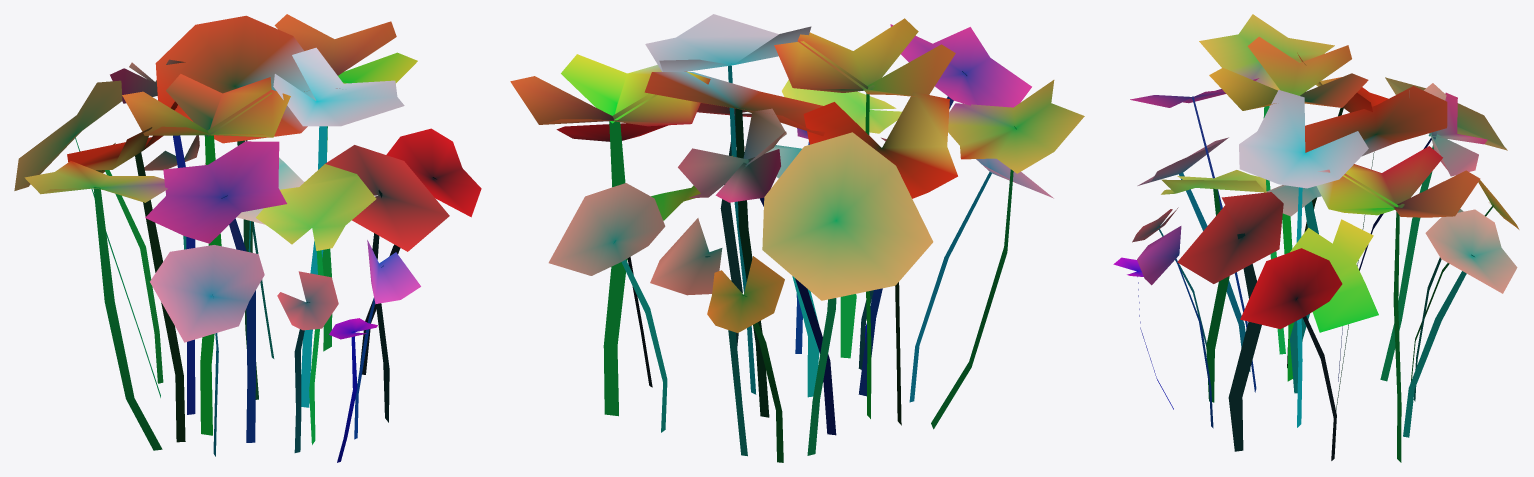
The model's file is Purple_Shamrock_rjrrH_Mid_rjrrH_VarB_LOD1.fbx.
3 views of the same model, side by side, from view 1: azimuth 30°, elevation 25°; view 2: azimuth 150°, elevation 25°; view 3: azimuth 270°, elevation 25° (orthographic). The views are drawn at different scales.
Visible parts, largest first — view 1: _3e89_VarB_LOD2; view 2: _3e89_VarB_LOD2; view 3: _3e89_VarB_LOD2.
Part boxes in pixels (box(x1,y1,x2,y2)): _3e89_VarB_LOD2: box(14, 14, 481, 462); _3e89_VarB_LOD2: box(510, 14, 1084, 462); _3e89_VarB_LOD2: box(1113, 14, 1519, 462).
Size of the model in its own units: 41.99 by 30.73 by 35.39.
